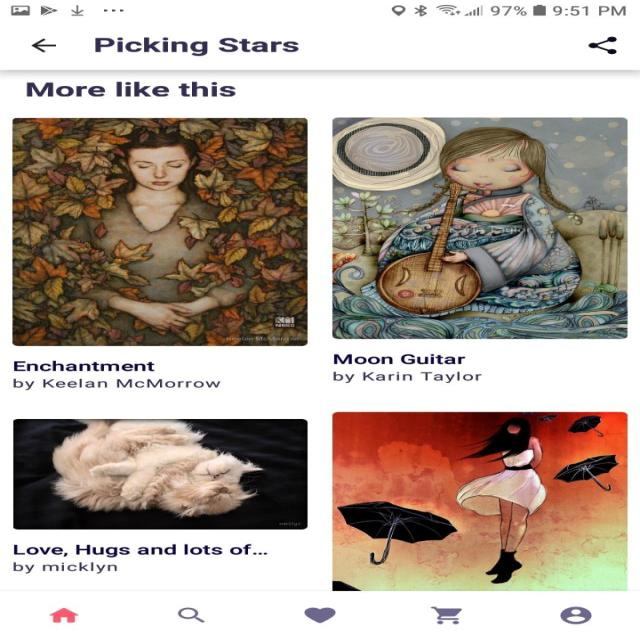Icon: (430, 606, 462, 624), (559, 606, 591, 624), (587, 36, 617, 55), (304, 606, 336, 623), (177, 606, 204, 622), (48, 608, 78, 622), (29, 38, 56, 52)
Image: (11, 117, 308, 346), (332, 118, 626, 339), (330, 411, 626, 591), (12, 418, 308, 530)
Text: (94, 37, 300, 56), (14, 543, 268, 557), (26, 81, 236, 97), (12, 378, 220, 389), (332, 371, 480, 383), (13, 361, 155, 372), (12, 561, 118, 574), (332, 354, 465, 364)
